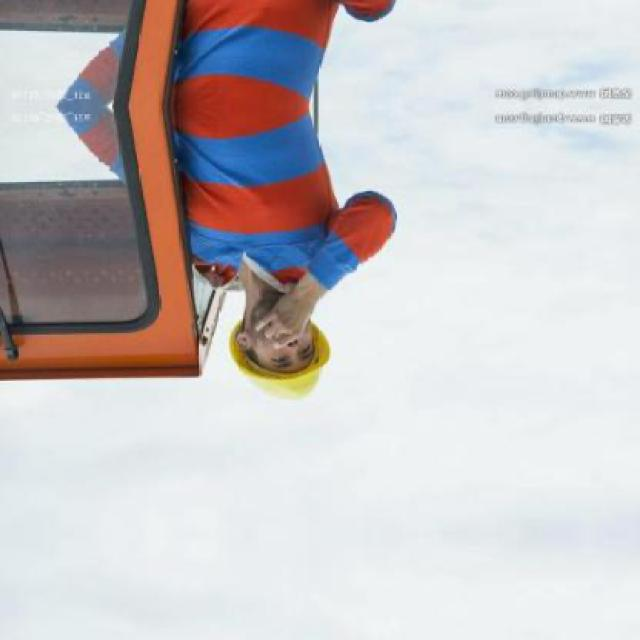con casco: (210, 260, 361, 387)
